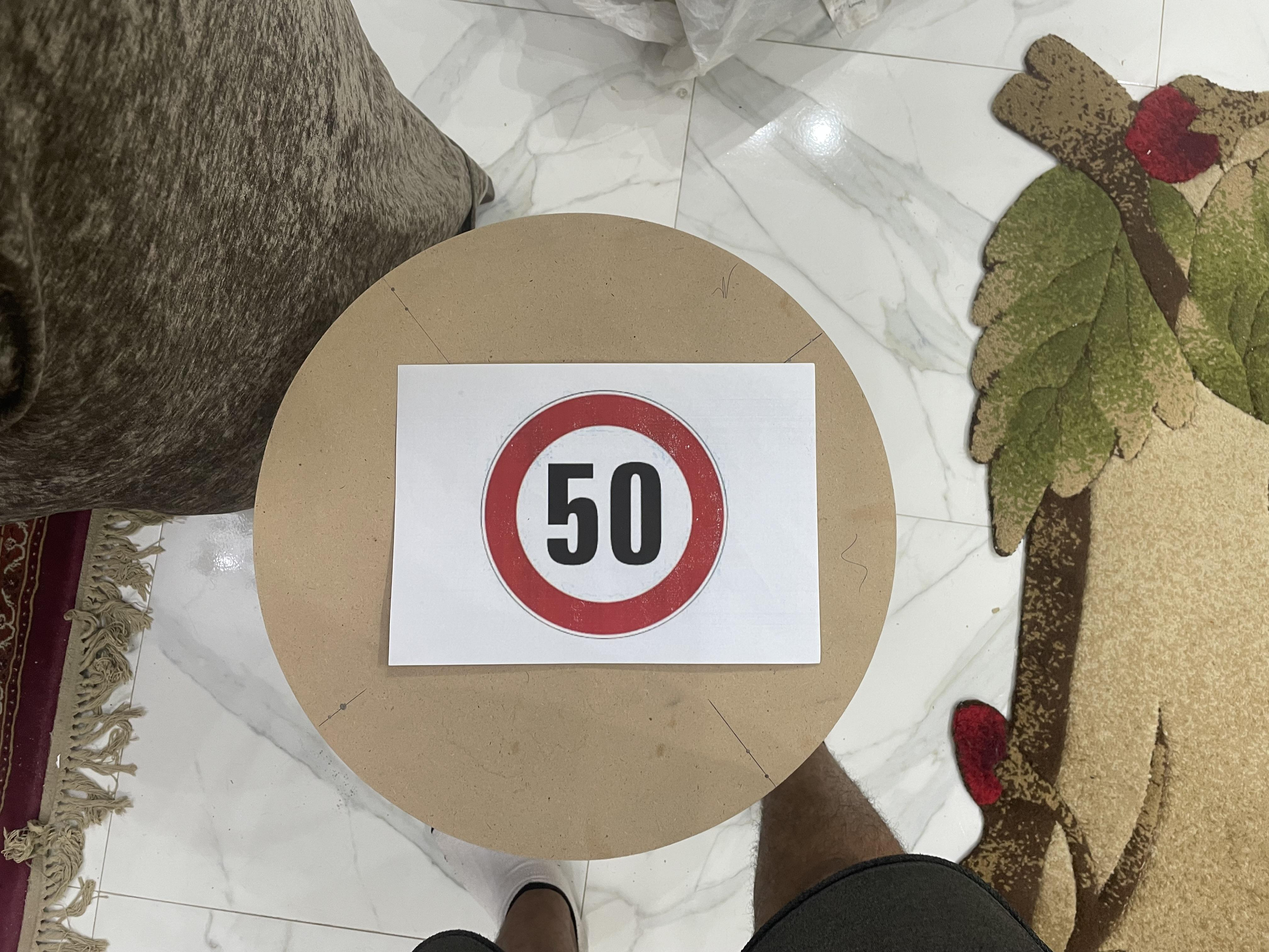50-Speed: (539, 306, 794, 567)
